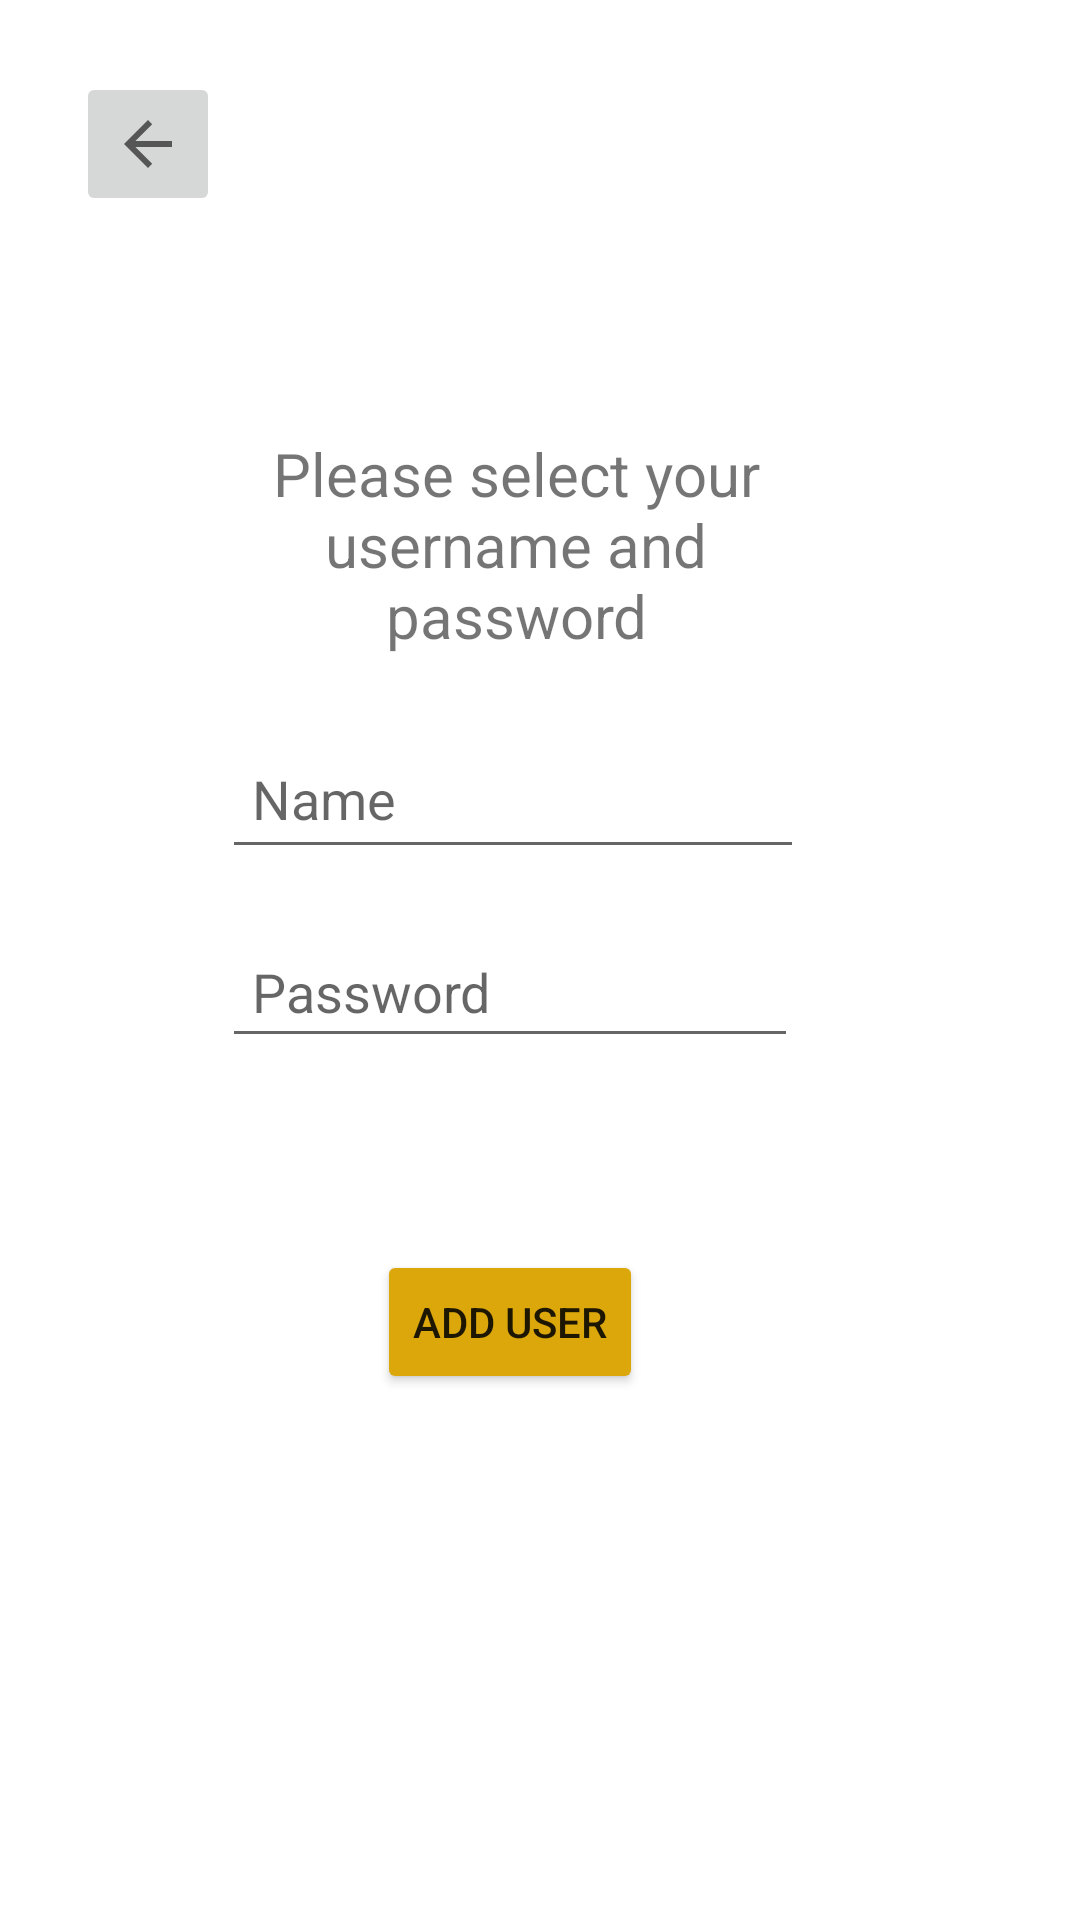

Named icons in this screenshot (1080px x 1920px) and their centers, [x,y]:
An image with back arraow function: [148,144]
